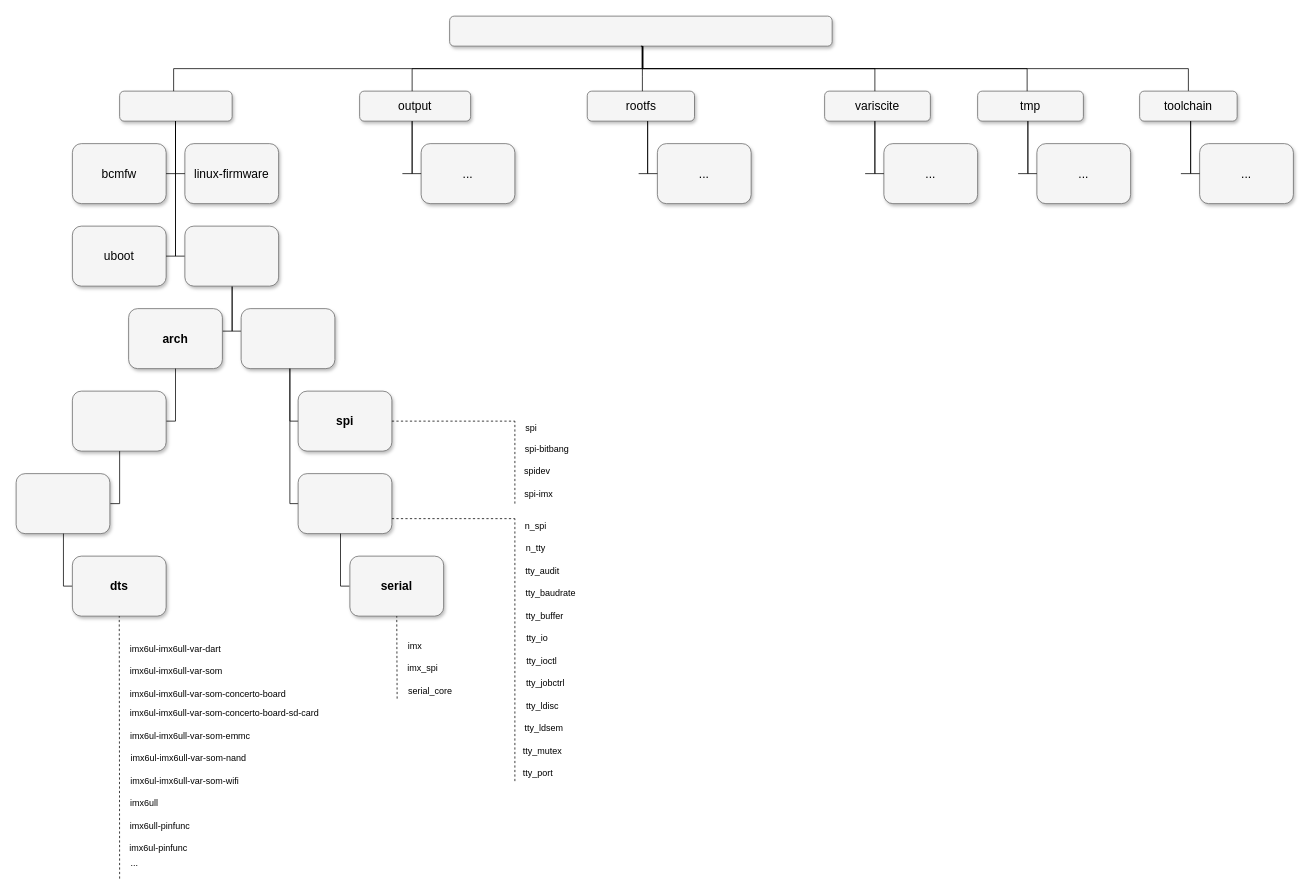
The diagram is 1311 pixels wide and 893 high, and some of its shapes have lost their labels. The shapes that lost their labels are listed below. From the top down, each one's centre as x and y in pixels, then its label:
At point (641, 31): "debian_imx6ul".
At point (176, 106): "src".
At point (232, 256): "kernel".
At point (288, 339): "drivers".
At point (120, 421): "arm".
At point (63, 504): "boot".
At point (345, 504): "tty".
